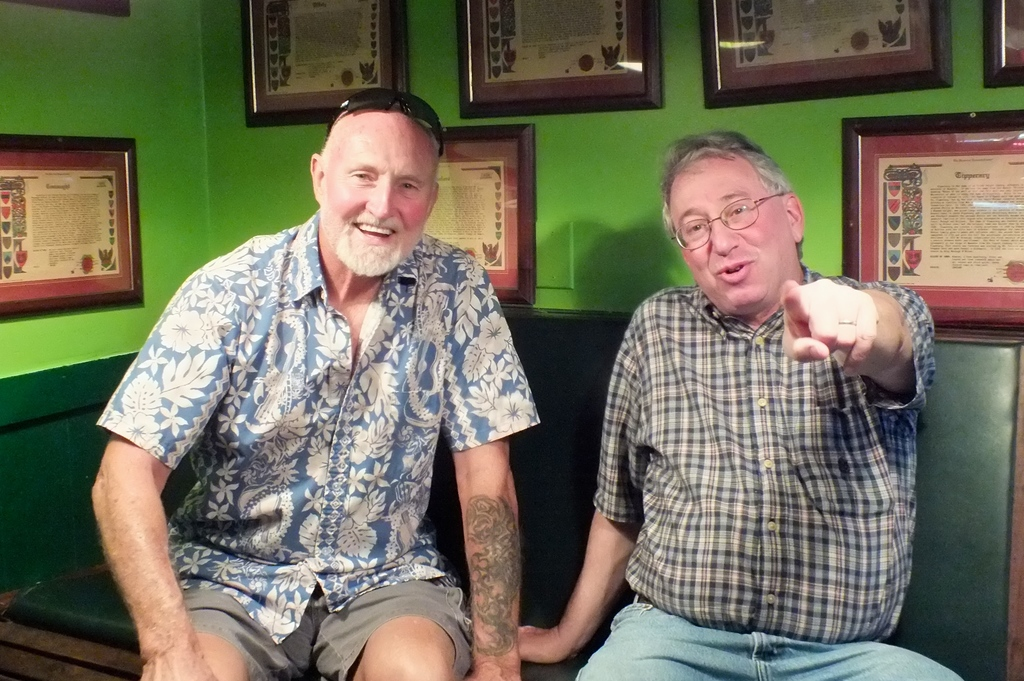face: (660, 133, 812, 328), (306, 90, 450, 281)
